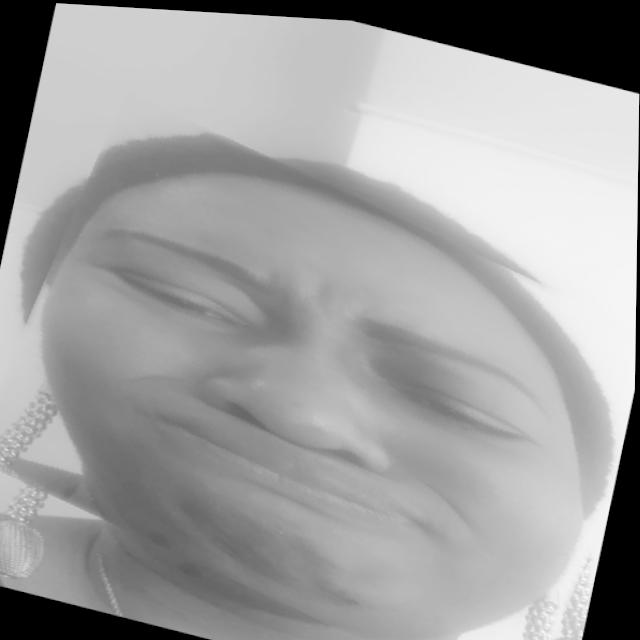sad: (0, 96, 639, 640)
